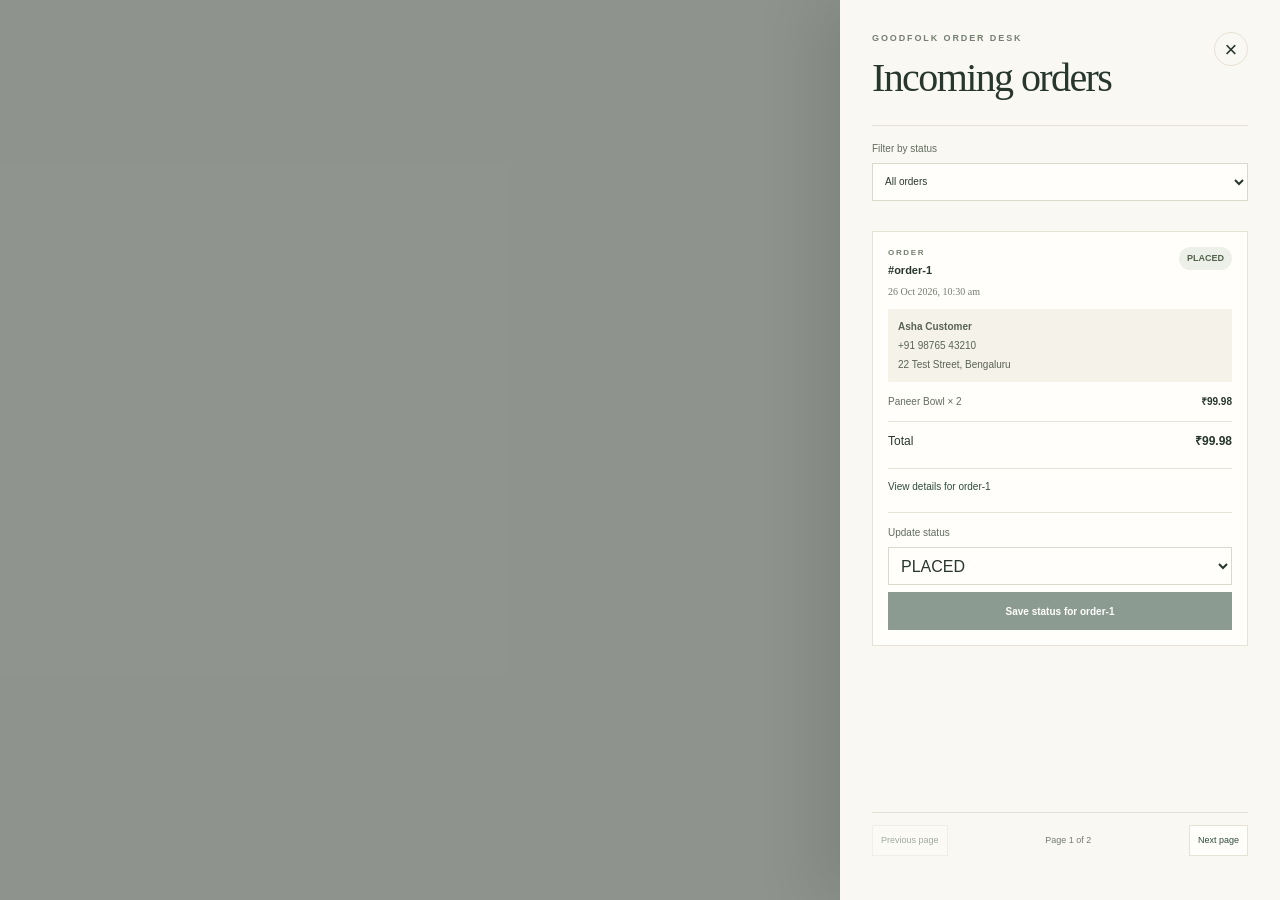
OrderCenter › lets admins filter and page through incoming orders, then update a valid status
The image size is (1280, 900).
Expected: the text "Asha Customer" is shown, [898,321,972,332]
Select "PLACED" in the dropdown labelled "Filter by status" at point(1060, 182), box [872,162,1248,200]
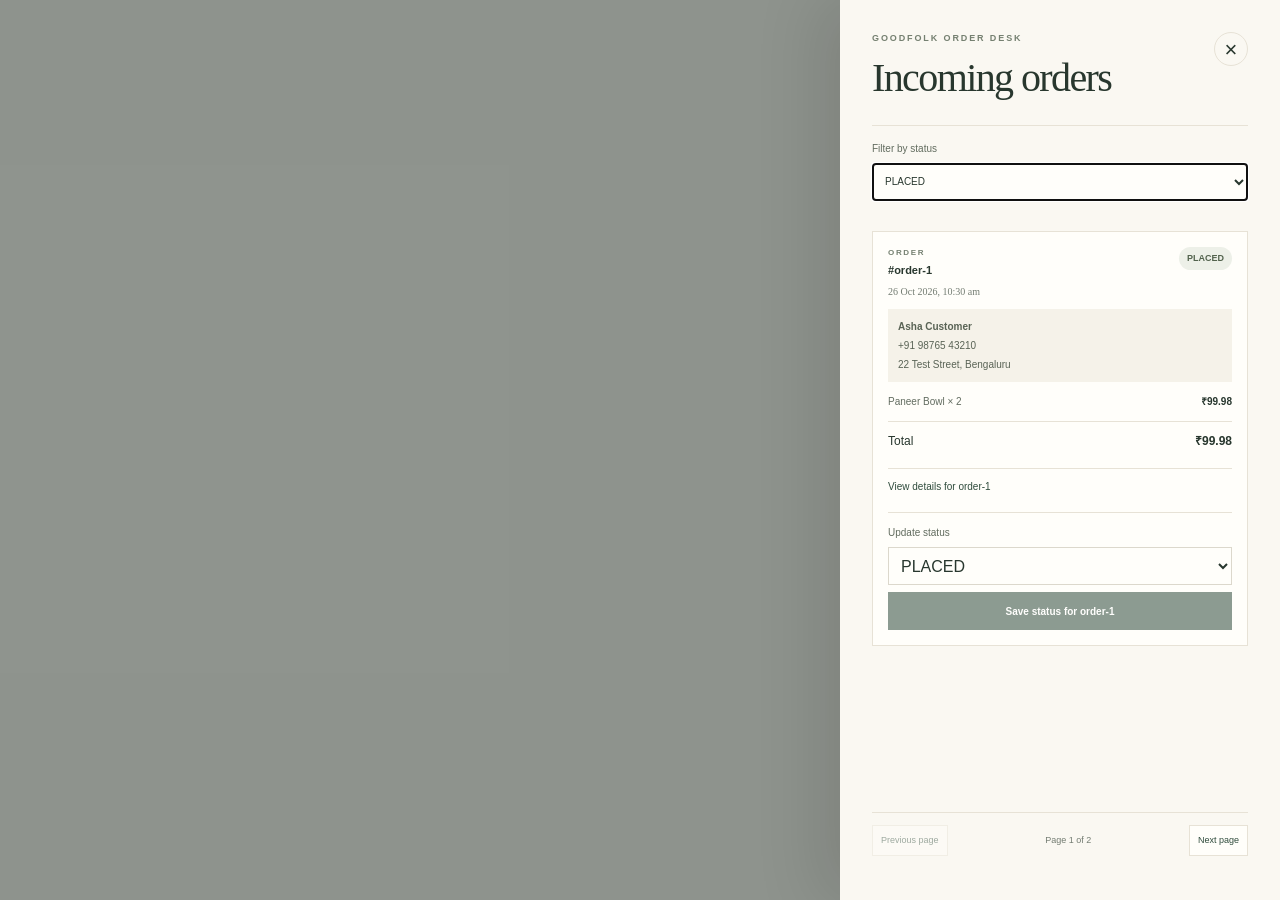
Select "CONFIRMED" in the dropdown named "Status for order-1" at point(1060, 566), box [888,547,1232,585]
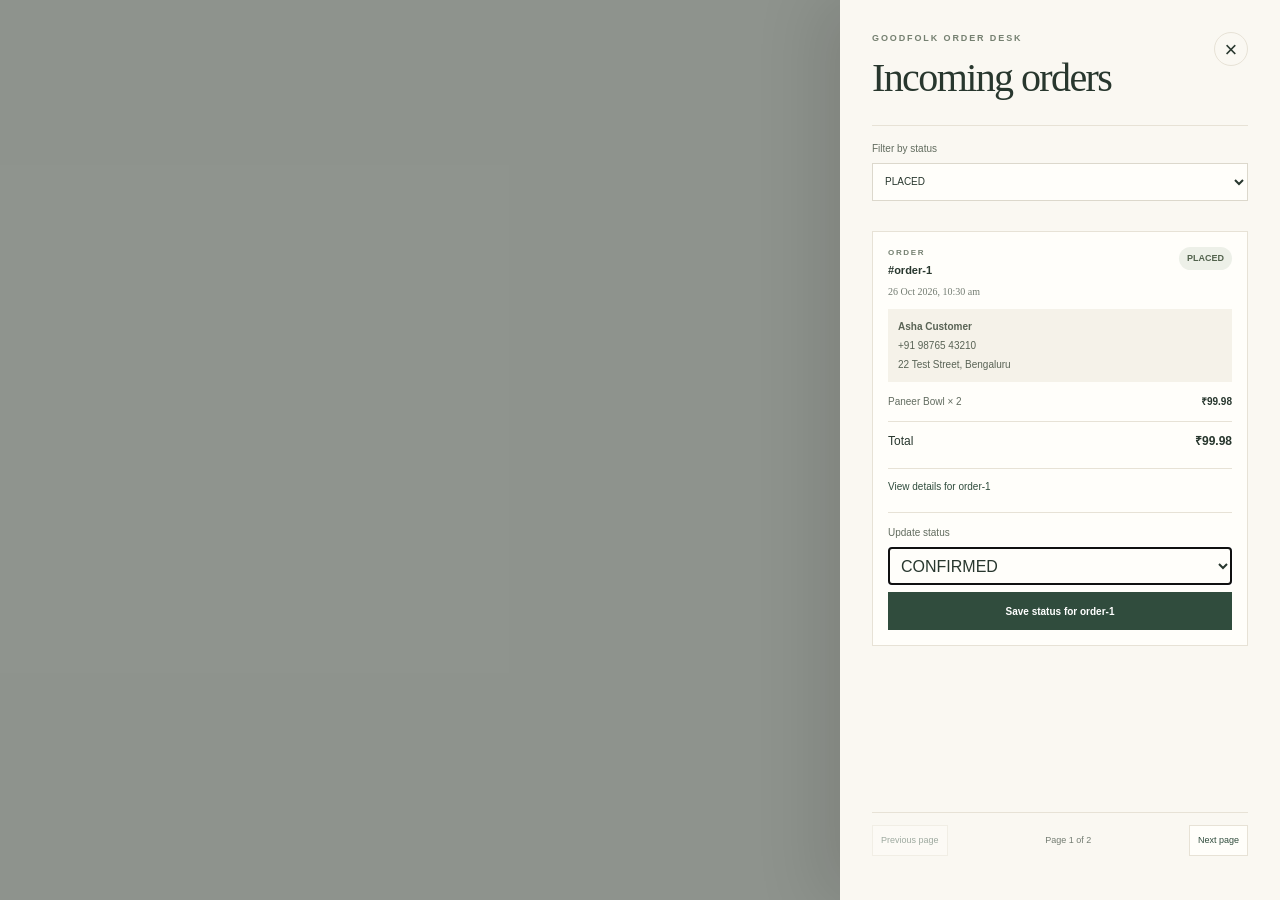
Click the button "Save status for order-1".
click(1060, 611)  # box [888,592,1232,630]
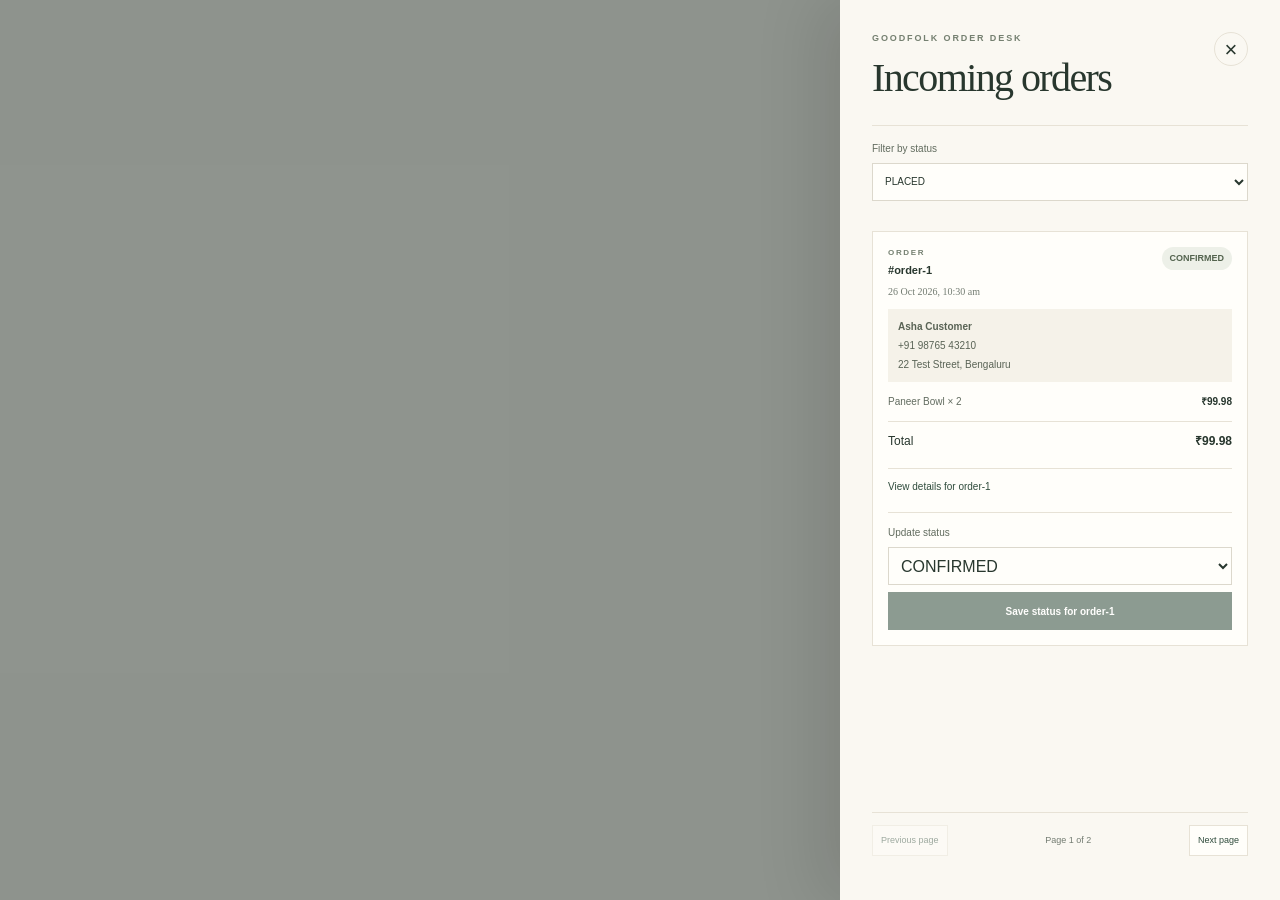
Click the button "Next page".
click(1218, 840)  # box [1189,824,1248,856]
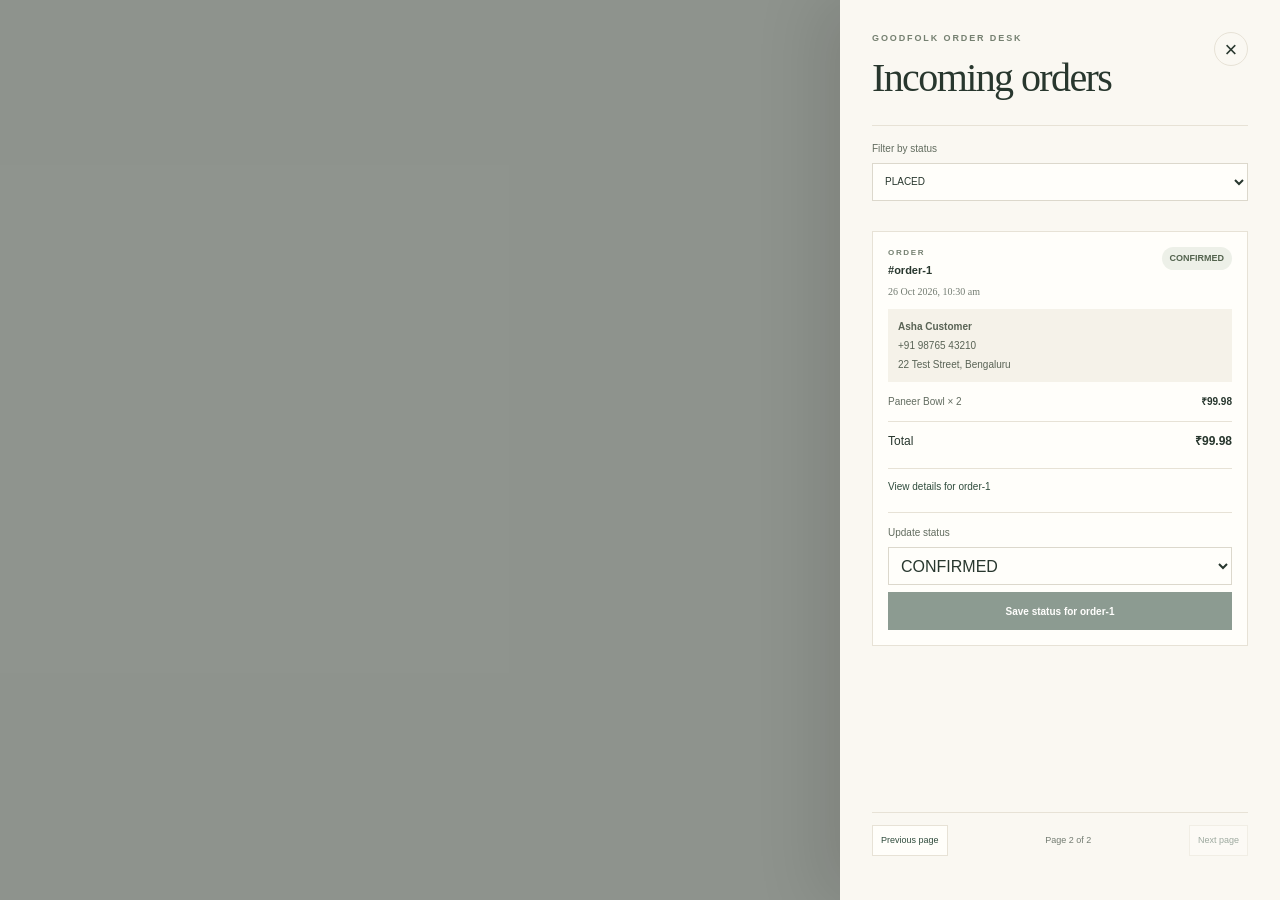
Expected: the text "Page 2 of 2" is shown, [1045,834,1091,847]
